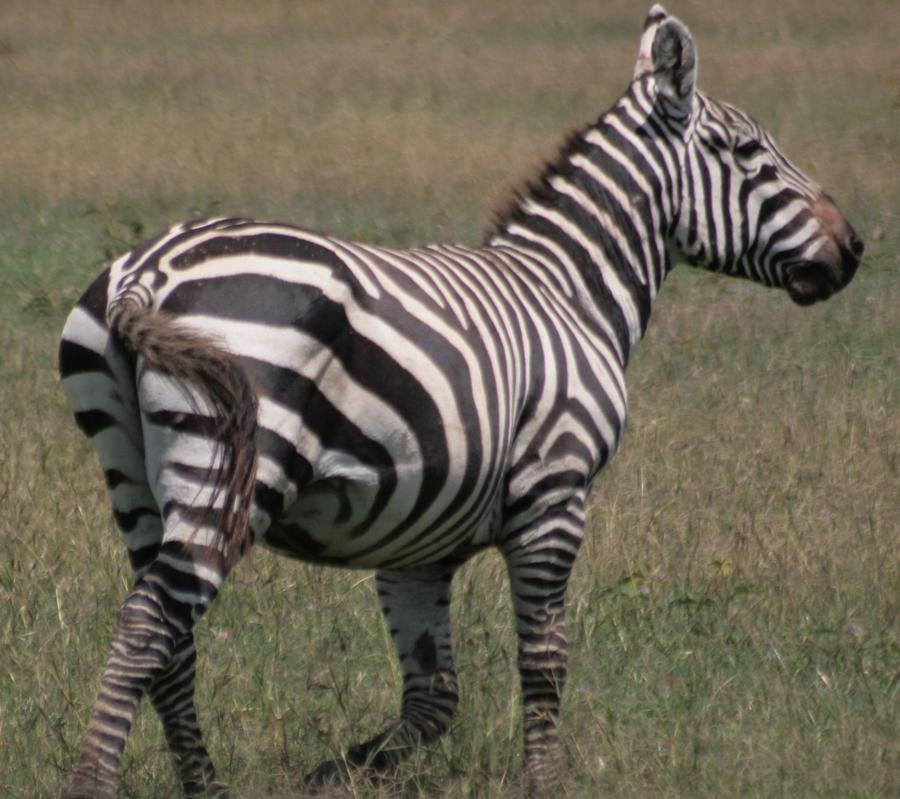zebra_plains: (168, 201, 636, 553)
